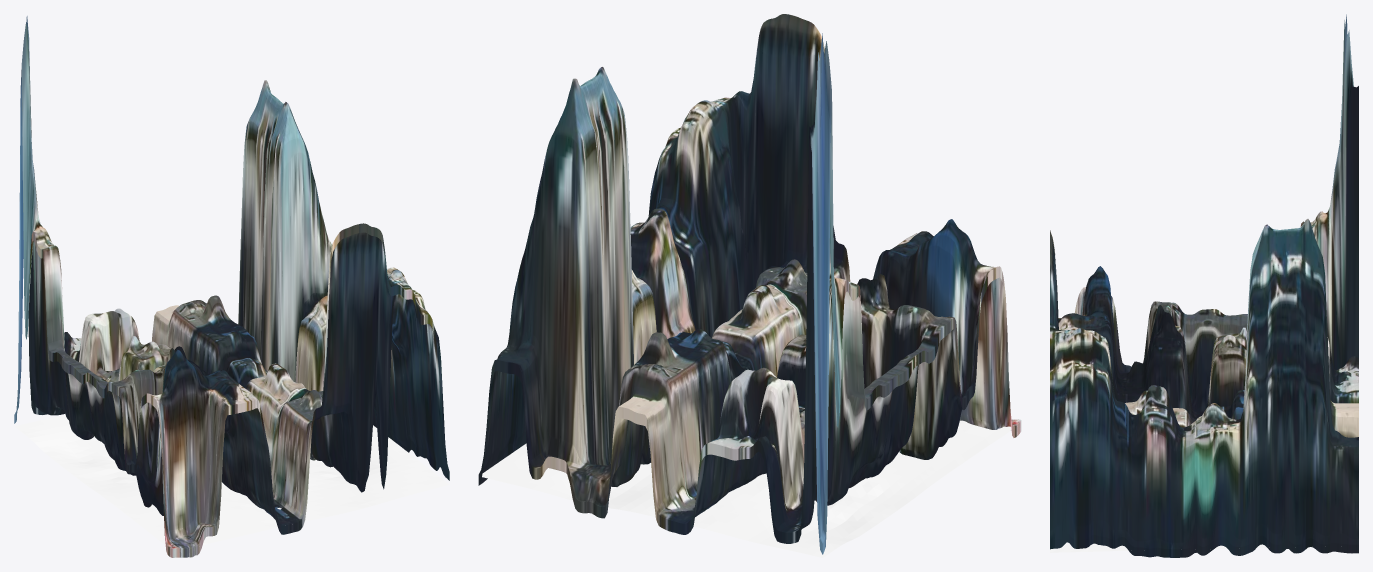
3 renders of one model, left to right at view 1: azimuth 30°, elevation 25°; view 2: azimuth 150°, elevation 25°; view 3: azimuth 270°, elevation 25°, orthographic. The views are drawn at different scales.
Visible parts, largest first — view 1: surface, ground; view 2: surface, ground; view 3: surface, ground.
Part boxes in pixels (bbox=[...]): surface: bbox=[14, 16, 449, 557]; ground: bbox=[15, 415, 449, 545]; surface: bbox=[478, 14, 1021, 554]; ground: bbox=[482, 420, 1011, 557]; surface: bbox=[1050, 14, 1358, 557]; ground: bbox=[1050, 542, 1266, 552].
Bounding box in the file's own units: 128 × 192 × 128.
2 materials, 1 textured.
